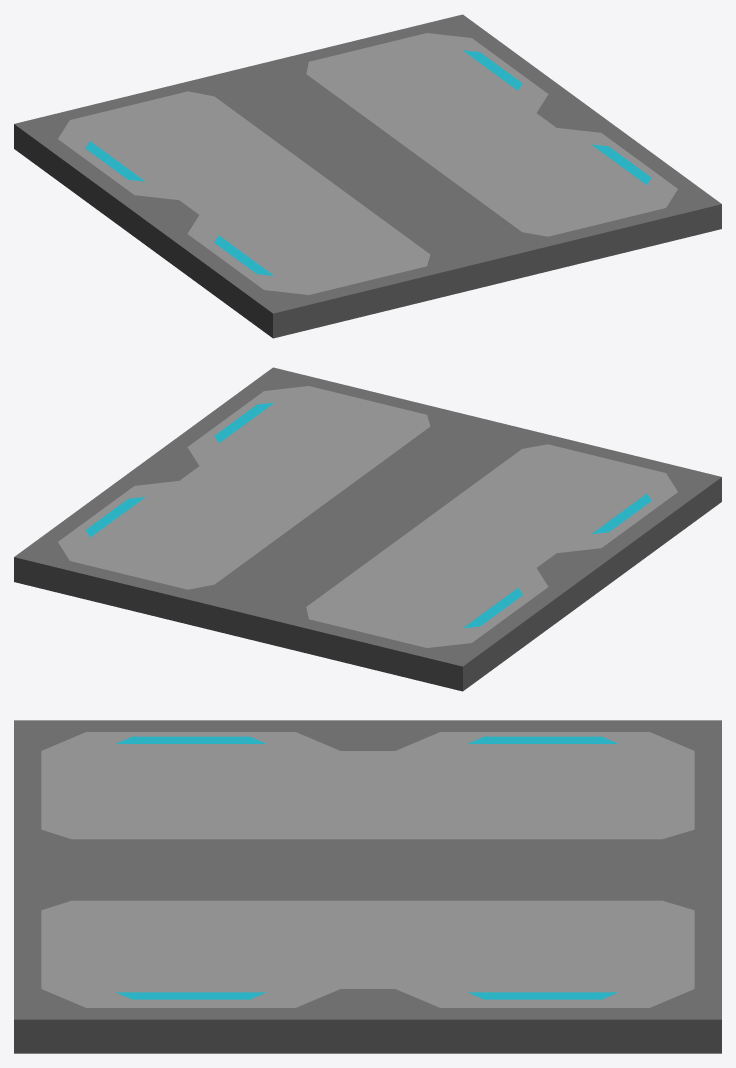
Rendered from tile_platform_008.fbx.
The picture shows the model from 3 angles, top to bottom: view 1: azimuth 30°, elevation 25°; view 2: azimuth 150°, elevation 25°; view 3: azimuth 270°, elevation 25°; orthographic projection. The views are drawn at different scales.
Visible parts, largest first — view 1: tile_platform_008; view 2: tile_platform_008; view 3: tile_platform_008.
Boxes of the visible parts, x1,y1,x2,y2 form: tile_platform_008: [14, 14, 721, 338]; tile_platform_008: [14, 367, 721, 691]; tile_platform_008: [14, 720, 721, 1053].
Size of the model in its own units: 400 by 400 by 22.3.
